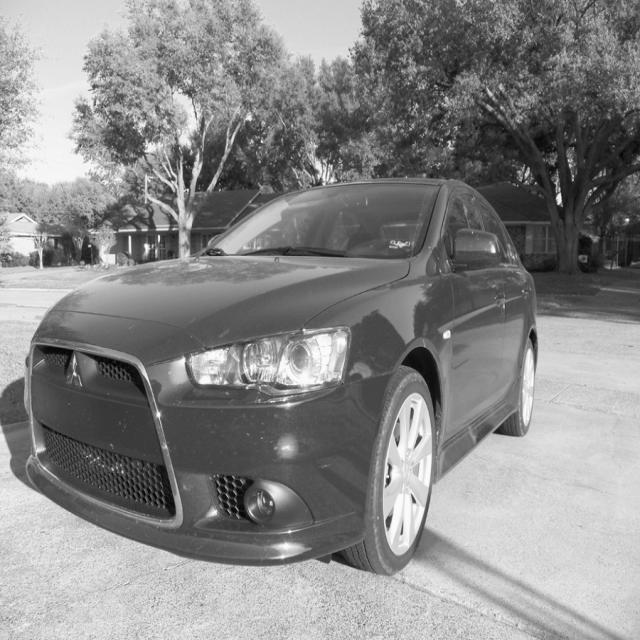car: (23, 177, 538, 576)
